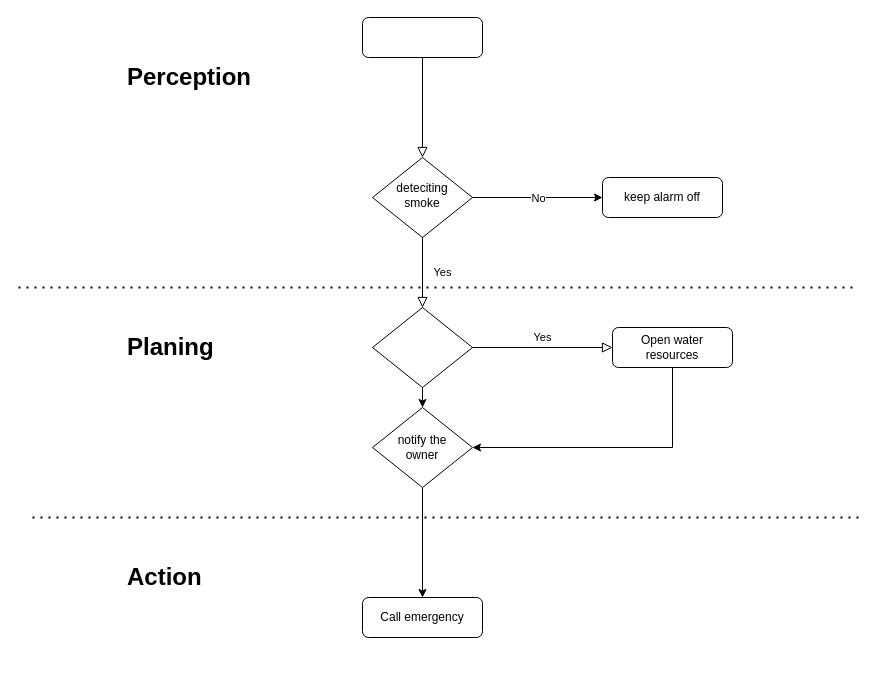
Some shapes in this 881 by 695 pixel diagram are drawn without their labels. The box of each missing label's shape, as (x1, y1, x2, y2) in pixels:
open alarm: (372, 306, 472, 388)
Smoke Detector: (362, 16, 482, 58)
